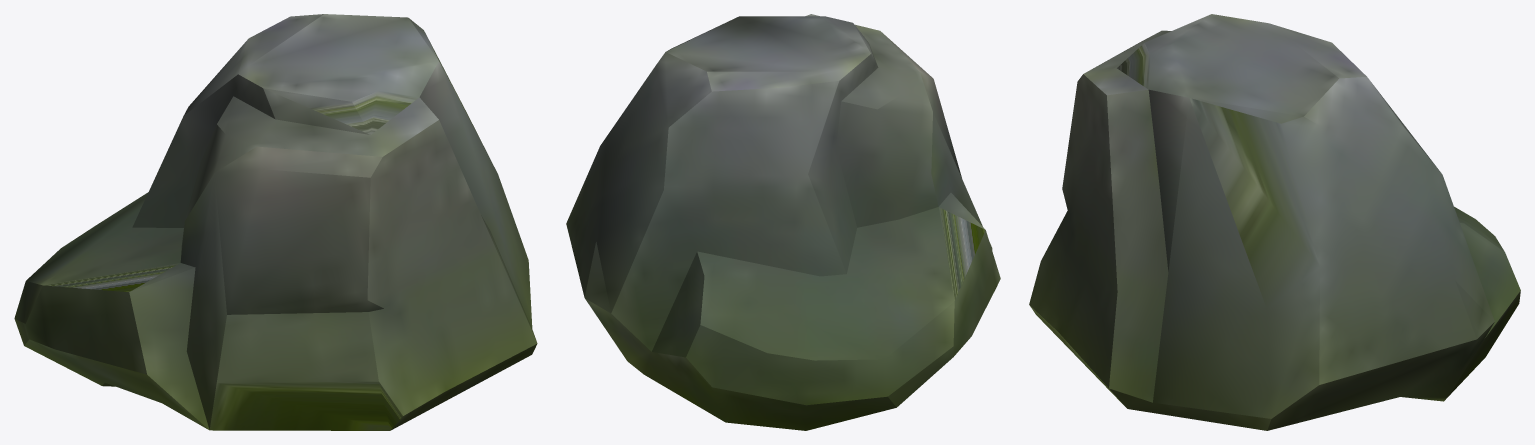
File: Rock_Medium_1.gltf
3 renders of one model, left to right at view 1: azimuth 30°, elevation 25°; view 2: azimuth 150°, elevation 25°; view 3: azimuth 270°, elevation 25°, orthographic. The views are drawn at different scales.
Visible parts, largest first — view 1: Rock_Medium_1; view 2: Rock_Medium_1; view 3: Rock_Medium_1.
Part boxes in pixels (left/top/right/bottom): Rock_Medium_1: left=14, top=14, right=537, bottom=430; Rock_Medium_1: left=566, top=14, right=1000, bottom=430; Rock_Medium_1: left=1029, top=14, right=1520, bottom=430.
Bounding box in the file's own units: 3.23 × 2.26 × 2.99.
1 material, 1 textured.
